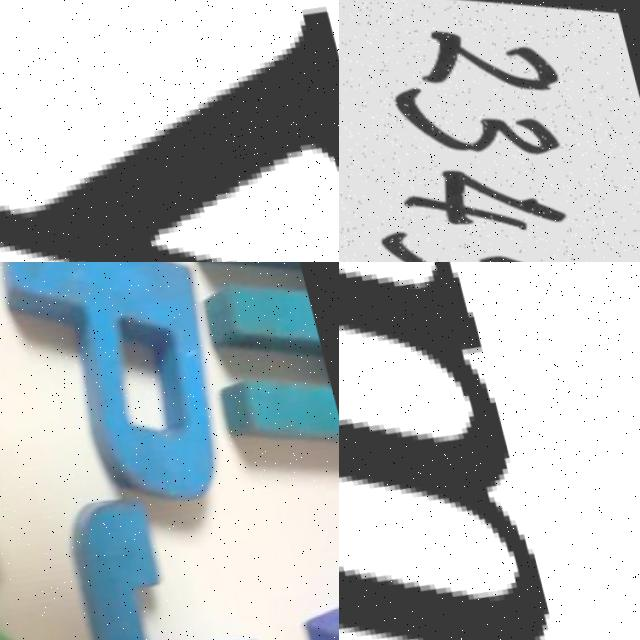2: (392, 0, 596, 128)
3: (375, 45, 593, 195)
4: (386, 113, 626, 262)
5: (351, 180, 593, 262)
J: (57, 472, 293, 640)
M: (339, 262, 569, 640)
P: (0, 262, 242, 526)
Y: (0, 0, 339, 262)
